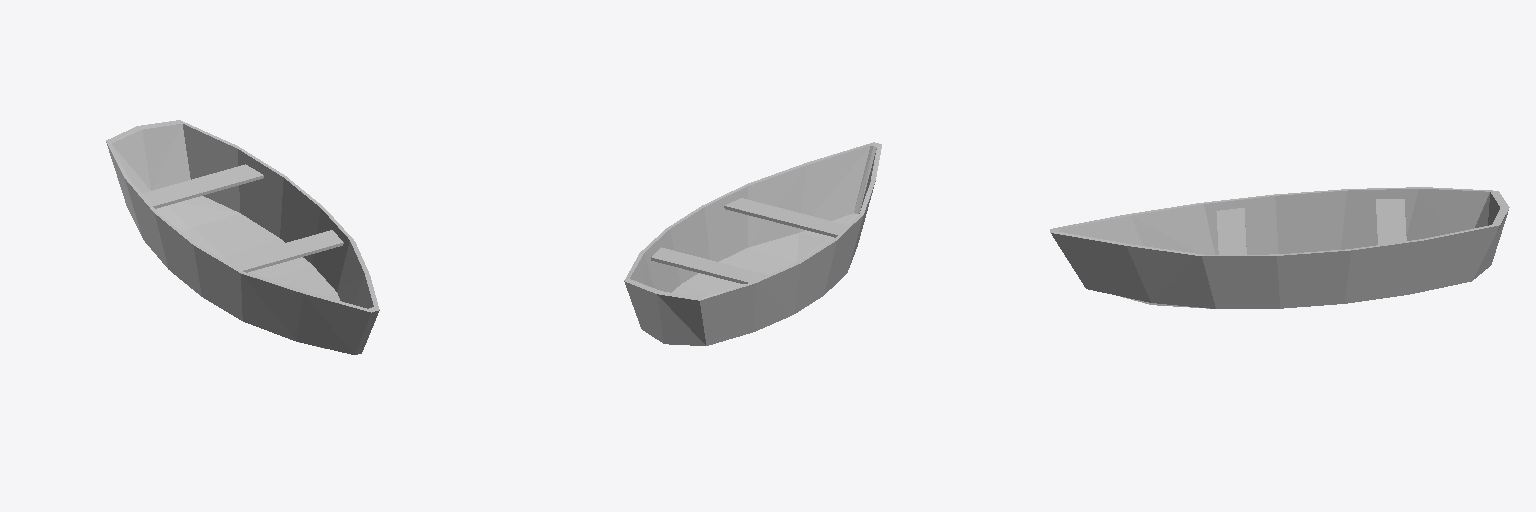
Rendered from boat.obj.
The picture shows the model from 3 angles: view 1: azimuth 30°, elevation 25°; view 2: azimuth 150°, elevation 25°; view 3: azimuth 270°, elevation 25°; orthographic projection.
Parts seen in each view (by area): view 1: Cube.002, Cube.001; view 2: Cube.002, Cube.001; view 3: Cube.002, Cube.001.
Boxes of the visible parts, x1,y1,x2,y2 form: Cube.002: [106, 120, 379, 354]; Cube.001: [142, 164, 343, 272]; Cube.002: [624, 142, 881, 345]; Cube.001: [651, 198, 847, 283]; Cube.002: [1050, 187, 1509, 308]; Cube.001: [1216, 199, 1406, 254].
Size of the model in its own units: 4.96 by 3.32 by 14.66.